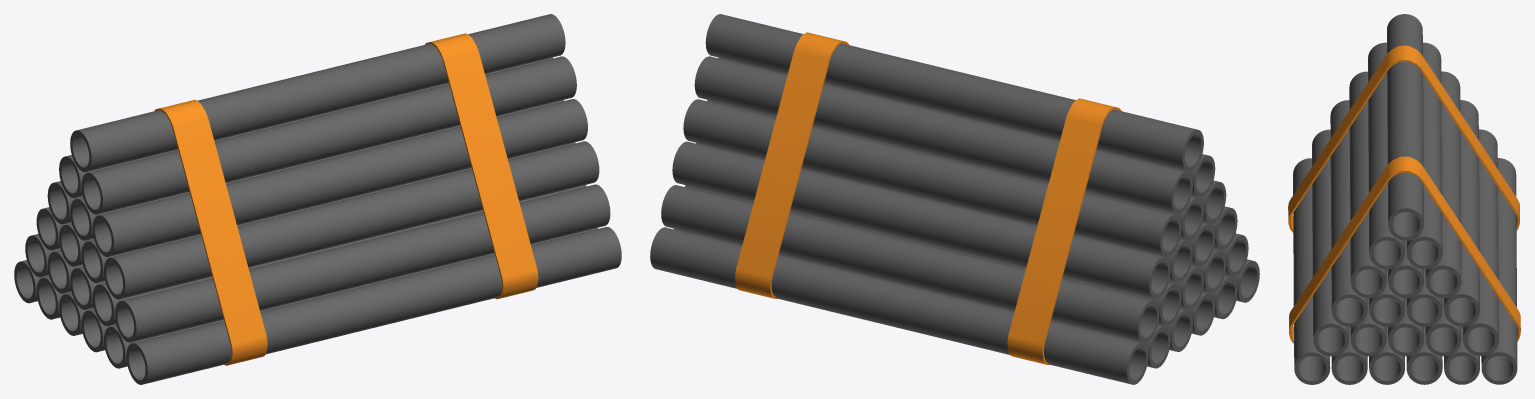
The model's file is Iron stuff.fbx.
3 renders of one model, left to right at view 1: azimuth 30°, elevation 25°; view 2: azimuth 150°, elevation 25°; view 3: azimuth 270°, elevation 25°, orthographic. The views are drawn at different scales.
Visible parts, largest first — view 1: Pallet.003; view 2: Pallet.003; view 3: Pallet.003.
Boxes of the visible parts, box(x1,y1,x2,y2) form: Pallet.003: box(14, 14, 621, 384); Pallet.003: box(650, 14, 1259, 384); Pallet.003: box(1288, 14, 1520, 384).
Size of the model in its own units: 113 by 95.82 by 224.
